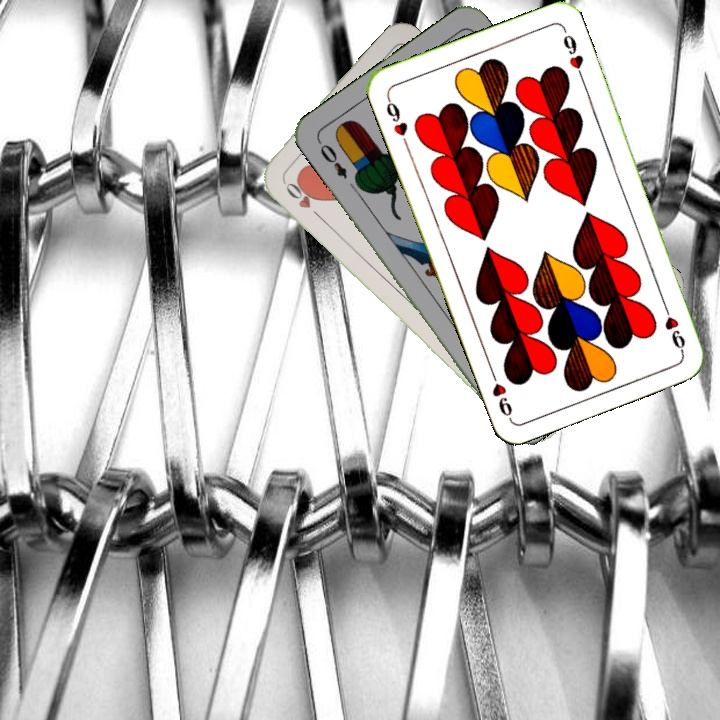EO: (313, 136, 350, 182)
H9: (658, 297, 688, 354), (382, 92, 411, 149)
HO: (279, 176, 325, 222)
